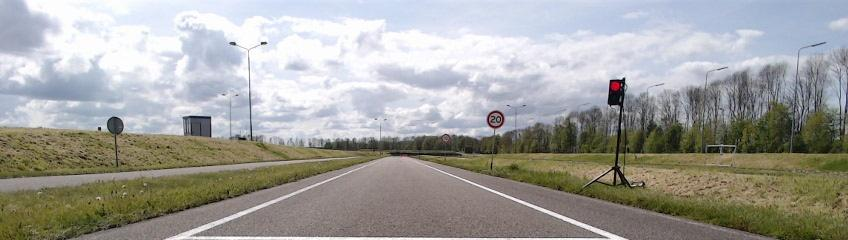Speed-limit-10km-h-: (441, 134, 450, 143)
Speed-limit-20km-h-: (487, 111, 504, 128)
TrafficLight-red: (608, 79, 624, 106)
